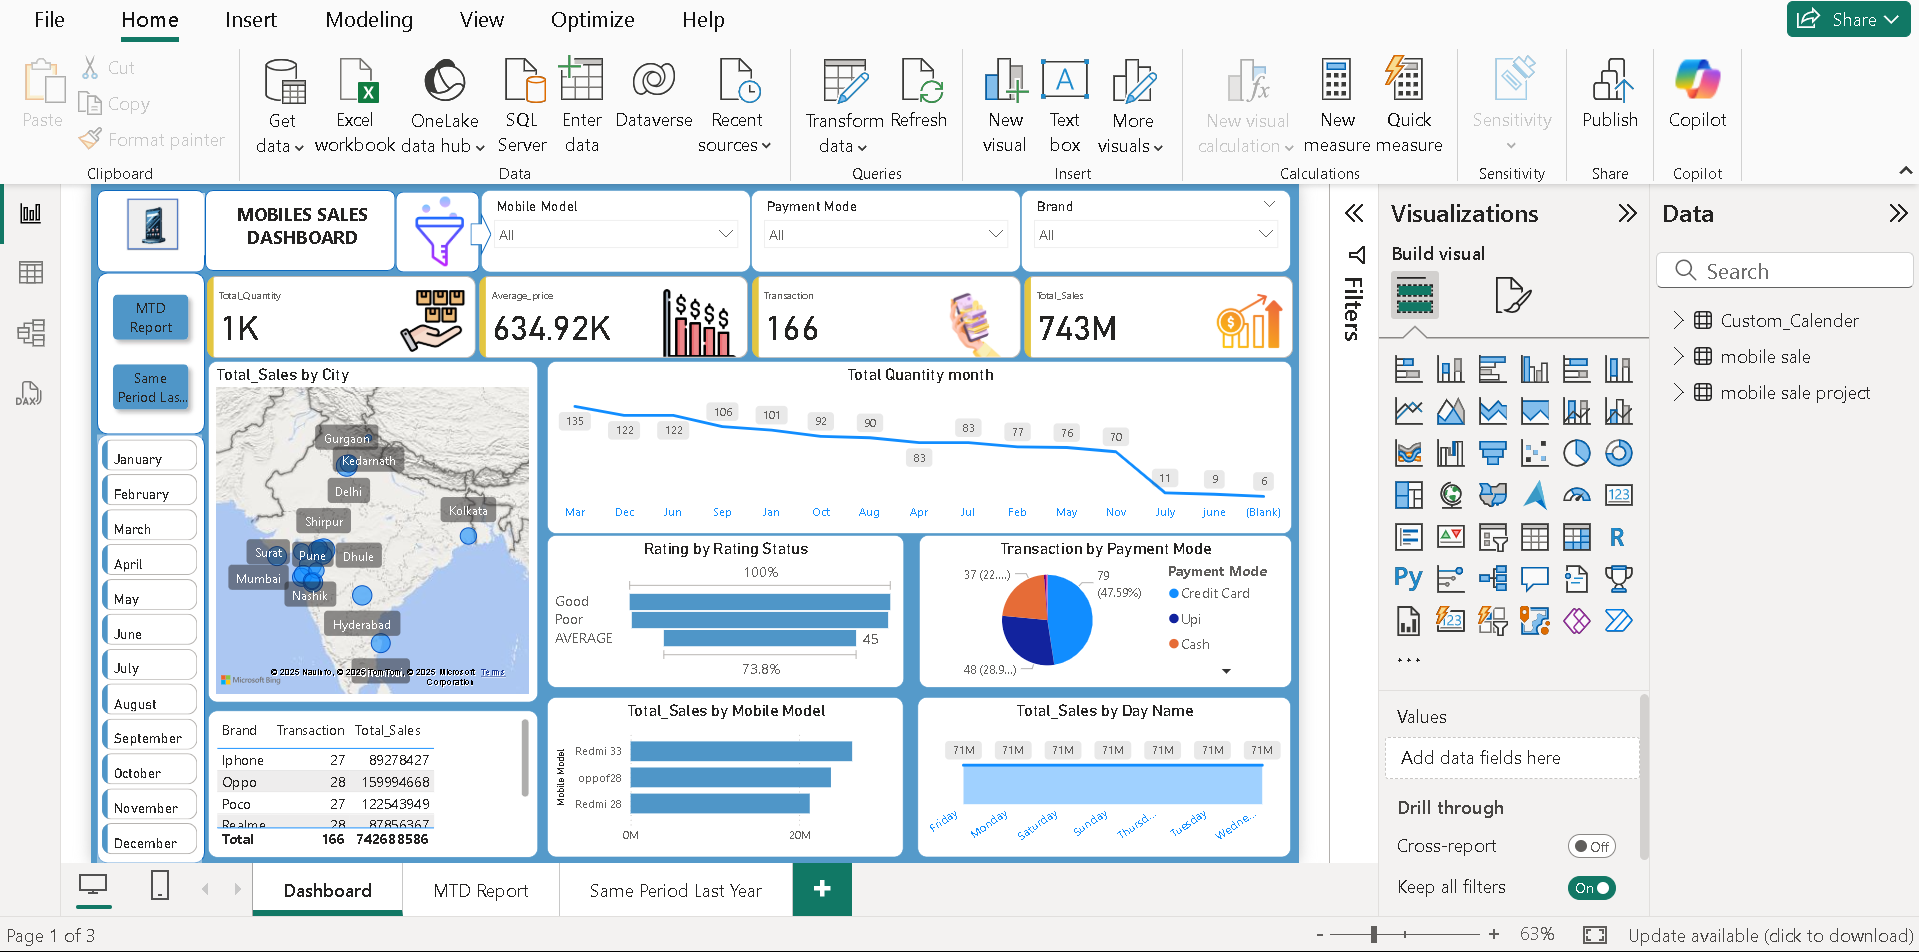

Layout of this report page (visuals, bound fields, positions):
{"tool":"powerbi","page":{"name":"Dashboard","canvas":[1280,720],"ordinal":0},"visuals":[{"type":"image","box":[9.4,5.7,68,66.1],"z":0},{"type":"shape","box":[6.4,6.4,114.5,87.5],"z":1000},{"type":"image","box":[9.4,9.4,111.5,66.1],"z":2000},{"type":"shape","box":[6.4,93.8,114.5,171.8],"z":3000},{"type":"shape","box":[6.4,265.6,114.5,454.9],"z":4000},{"type":"advancedSlicerVisual","fields":{"Values":["Custom_Calender.Date.Variation.Date Hierarchy.Month"]},"box":[6.4,265.6,111.3,454.9],"z":5000},{"type":"cardVisual","fields":{"Data":["mobile sale project.Total_Quatity","mobile sale project.Average_price","mobile sale project.Transaction","mobile sale project.Total_Sales"]},"box":[117.7,92.3,1162.7,97],"z":6000},{"type":"slicer","fields":{"Values":["mobile sale.Payment Mode"]},"box":[699.9,6.4,286.3,87.5],"z":7000},{"type":"slicer","fields":{"Values":["mobile sale project.Mobile Model"]},"box":[413.6,6.4,286.3,87.5],"z":8000},{"type":"slicer","fields":{"Values":["mobile sale project.Brand "]},"box":[986.2,6.4,286.3,87.5],"z":9000},{"type":"shape","box":[322.9,8,89.1,85.9],"z":10000},{"type":"image","box":[326.1,8,87.5,84.3],"z":11000},{"type":"shape","box":[402.4,30.2,22.3,46.1],"z":12000},{"type":"shape","box":[120.9,6.4,202,85.9],"z":13000},{"type":"textbox","box":[136.8,12.7,175,60.4],"z":14000},{"type":"map","fields":{"Size":["mobile sale project.Total_Sales"],"Category":["mobile sale.City"]},"box":[124,188,350,362],"z":15000},{"type":"lineChart","title":"Total Quantity month","fields":{"Y":["mobile sale project.Total_Quantity"],"Category":["mobile sale.Month"]},"box":[483.3,188.3,790,183.3],"z":16000},{"type":"funnel","title":"Rating by Rating Status","fields":{"Y":["CountNonNull(mobile sale project.Customer Rating)"],"Category":["mobile sale project.Rating Status"]},"box":[483.3,371.7,378.3,161.7],"z":17000},{"type":"pieChart","fields":{"Y":["mobile sale project.Transaction"],"Category":["mobile sale.Payment Mode"]},"box":[878.3,371.7,395,161.7],"z":18000},{"type":"clusteredBarChart","fields":{"Y":["mobile sale project.Total_Sales"],"Category":["mobile sale project.Mobile Model"]},"box":[484,544,378,170],"z":19000},{"type":"areaChart","fields":{"Y":["mobile sale project.Total_Sales"],"Category":["Custom_Calender.Day Name"]},"box":[876,544,396,170],"z":20000},{"type":"tableEx","fields":{"Values":["mobile sale project.Brand ","mobile sale project.Transaction","mobile sale project.Total_Sales"]},"box":[124,558,350,156],"z":21000},{"type":"pageNavigator","box":[15,108.3,98.3,141.7],"z":22000}]}

Visuals, with their boxes on the page's 1280x720 design canvas (x1, y1, x2, y2). These are canvas units, not pixel positions in the 1919x952 screenshot, which may show the page scaled, cropped or inside an application window:
image: [x1=9, y1=6, x2=77, y2=72]
shape: [x1=6, y1=6, x2=121, y2=94]
image: [x1=9, y1=9, x2=121, y2=76]
shape: [x1=6, y1=94, x2=121, y2=266]
shape: [x1=6, y1=266, x2=121, y2=720]
advancedSlicerVisual - Custom_Calender.Date.Variation.Date Hierarchy.Month: [x1=6, y1=266, x2=118, y2=720]
cardVisual - mobile sale project.Total_Quatity x mobile sale project.Average_price: [x1=118, y1=92, x2=1280, y2=189]
slicer - mobile sale.Payment Mode: [x1=700, y1=6, x2=986, y2=94]
slicer - mobile sale project.Mobile Model: [x1=414, y1=6, x2=700, y2=94]
slicer - mobile sale project.Brand : [x1=986, y1=6, x2=1272, y2=94]
shape: [x1=323, y1=8, x2=412, y2=94]
image: [x1=326, y1=8, x2=414, y2=92]
shape: [x1=402, y1=30, x2=425, y2=76]
shape: [x1=121, y1=6, x2=323, y2=92]
textbox: [x1=137, y1=13, x2=312, y2=73]
map - mobile sale project.Total_Sales x mobile sale.City: [x1=124, y1=188, x2=474, y2=550]
"Total Quantity month" lineChart: [x1=483, y1=188, x2=1273, y2=372]
"Rating by Rating Status" funnel: [x1=483, y1=372, x2=862, y2=533]
pieChart - mobile sale project.Transaction x mobile sale.Payment Mode: [x1=878, y1=372, x2=1273, y2=533]
clusteredBarChart - mobile sale project.Total_Sales x mobile sale project.Mobile Model: [x1=484, y1=544, x2=862, y2=714]
areaChart - mobile sale project.Total_Sales x Custom_Calender.Day Name: [x1=876, y1=544, x2=1272, y2=714]
tableEx - mobile sale project.Brand  x mobile sale project.Transaction: [x1=124, y1=558, x2=474, y2=714]
pageNavigator: [x1=15, y1=108, x2=113, y2=250]
